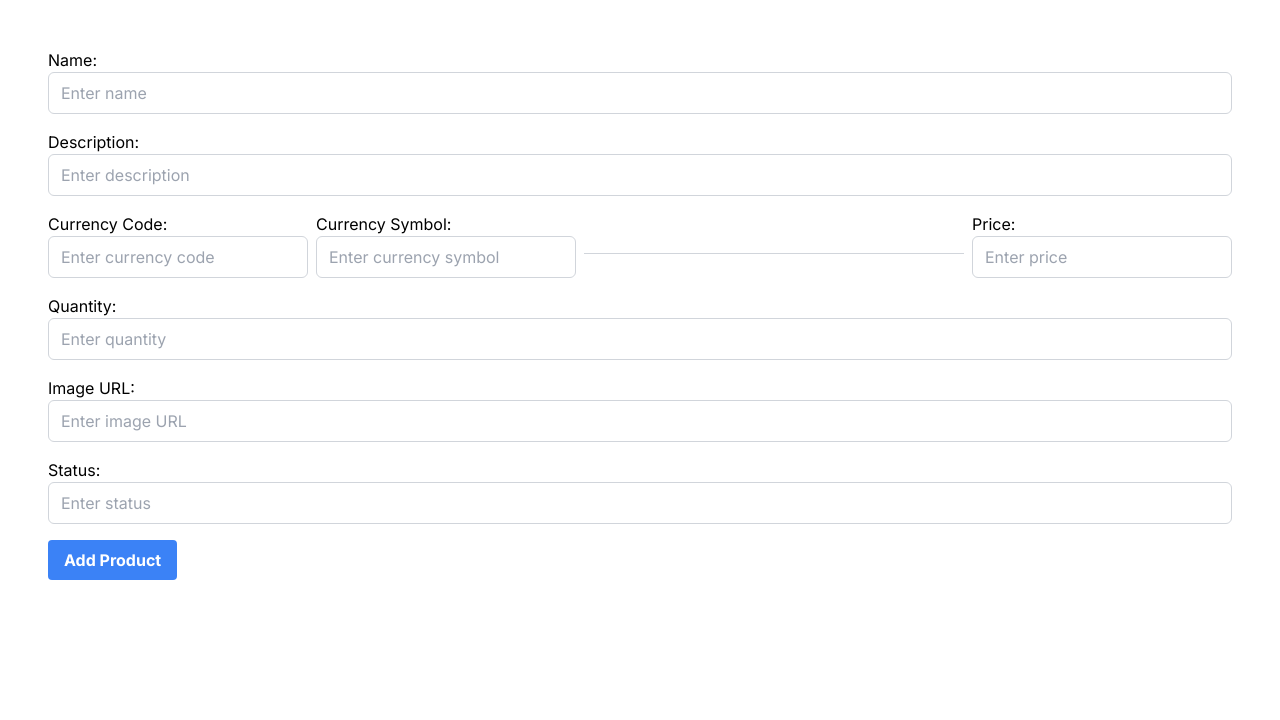
Test: AddProduct Component › displays error message if price is not positive
The image size is (1280, 720).
// Fill in the form fields
In the field labelled "Name:": (640, 93) left=48, top=72, right=1232, bottom=114, type "Test Product"
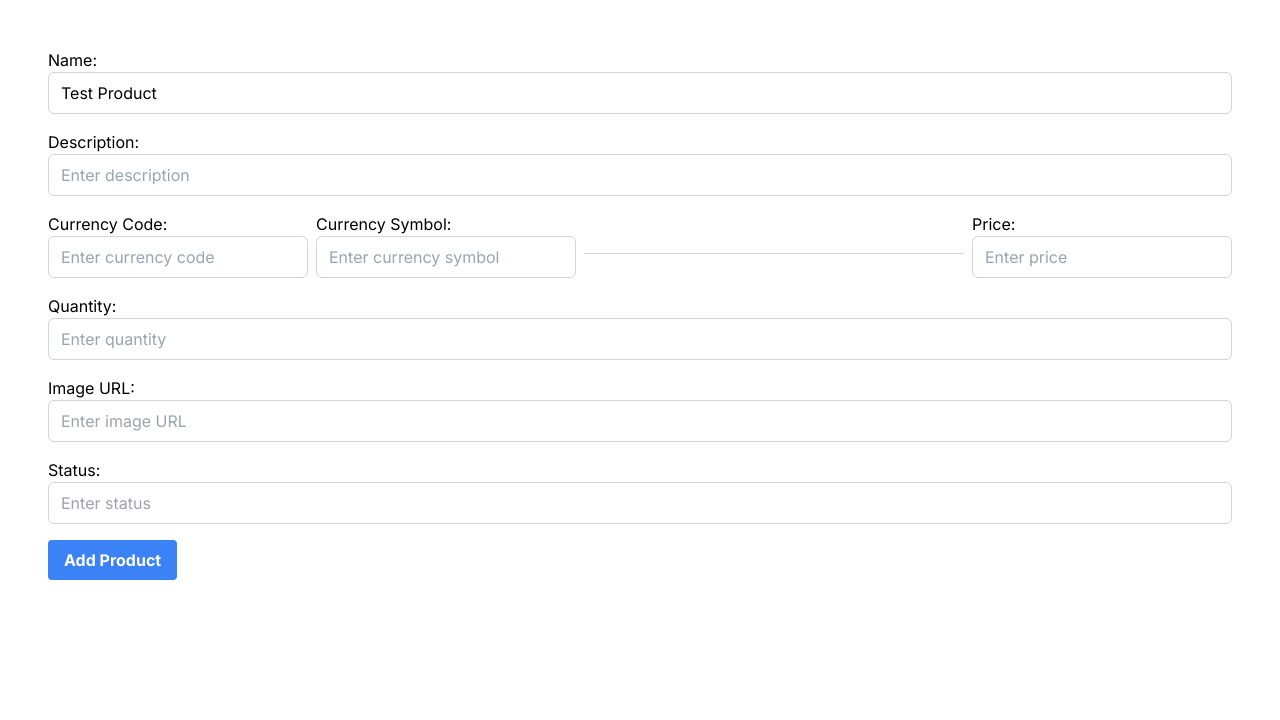
In the field labelled "Description:": (640, 175) left=48, top=154, right=1232, bottom=196, type "Test Description"
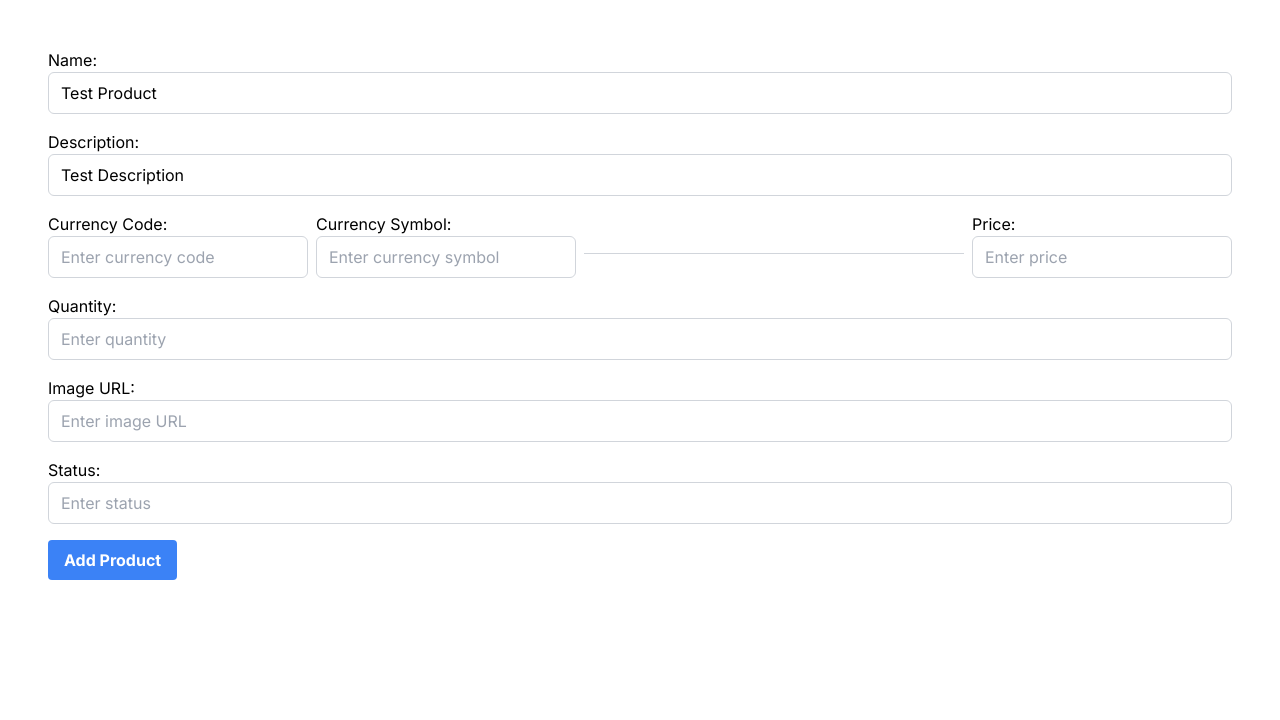
In the field labelled "Currency Code:": (178, 257) left=48, top=236, right=308, bottom=278, type "USD"
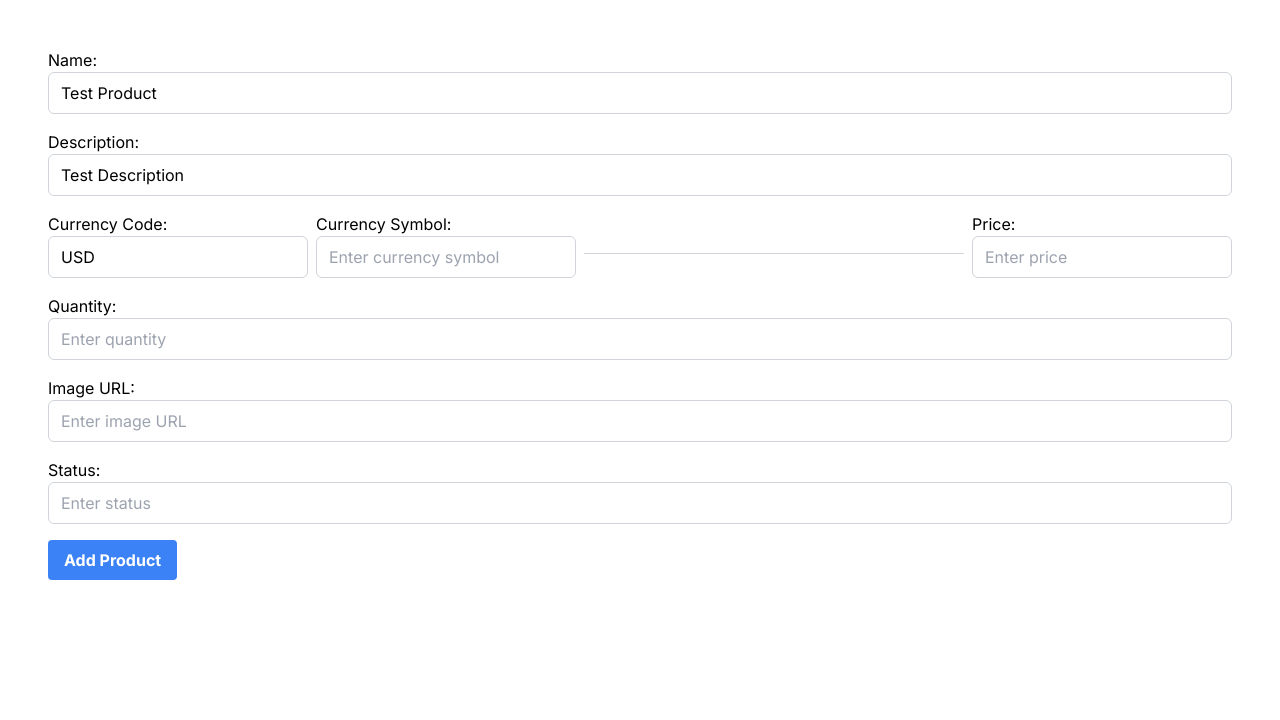
In the field labelled "Currency Symbol:": (446, 257) left=316, top=236, right=576, bottom=278, type "$"
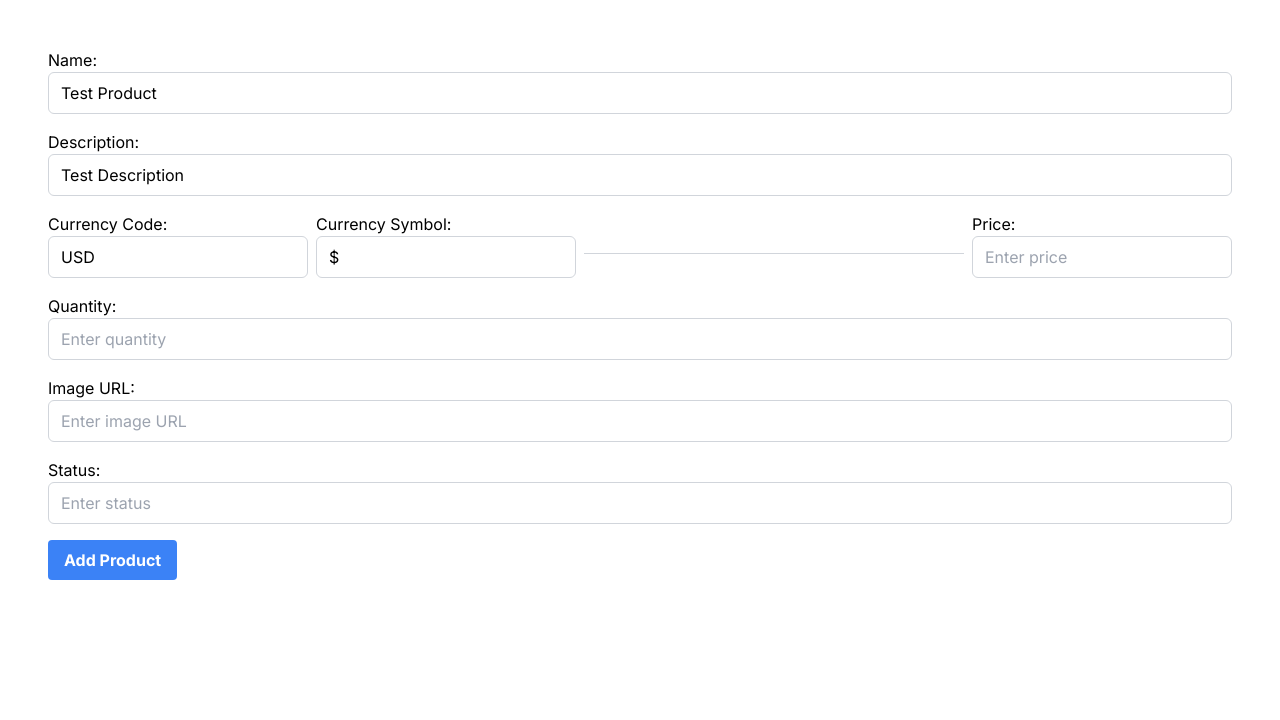
In the number field labelled "Price:": (1102, 257) left=972, top=236, right=1232, bottom=278, type "-10"
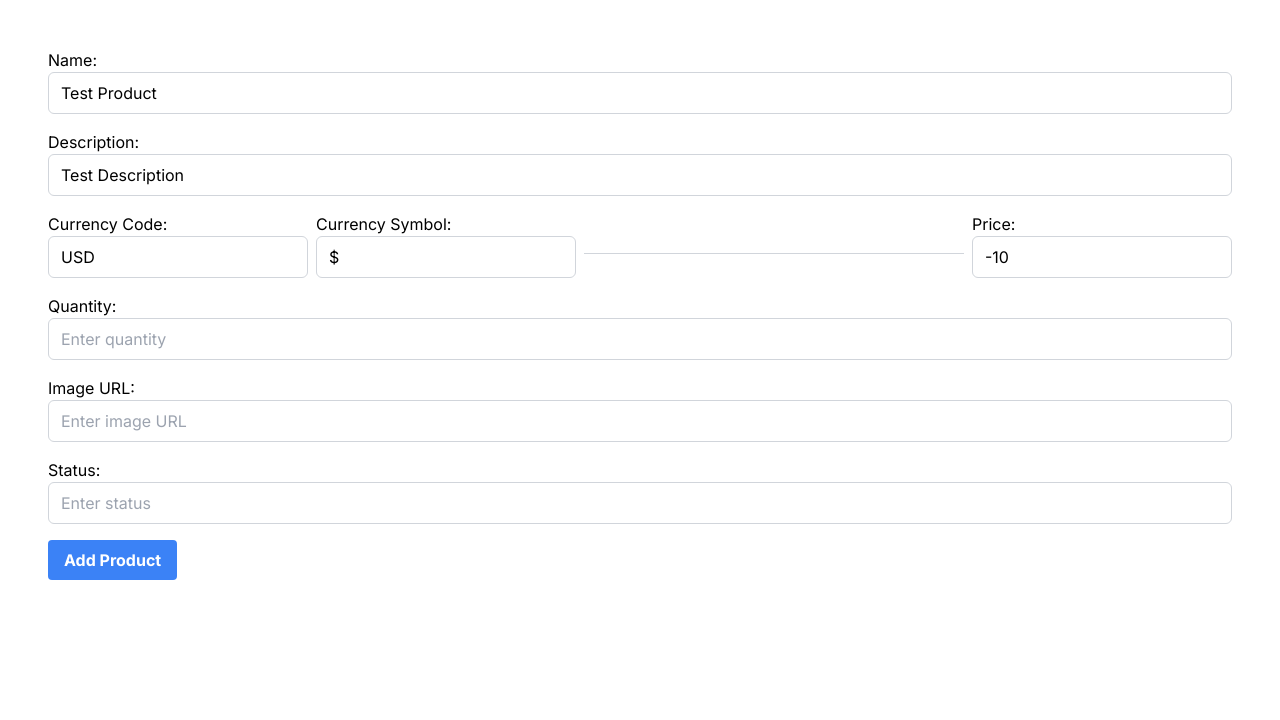
// Submit the form
Submit the form from the button labelled "Add Product", box left=48, top=540, right=177, bottom=580
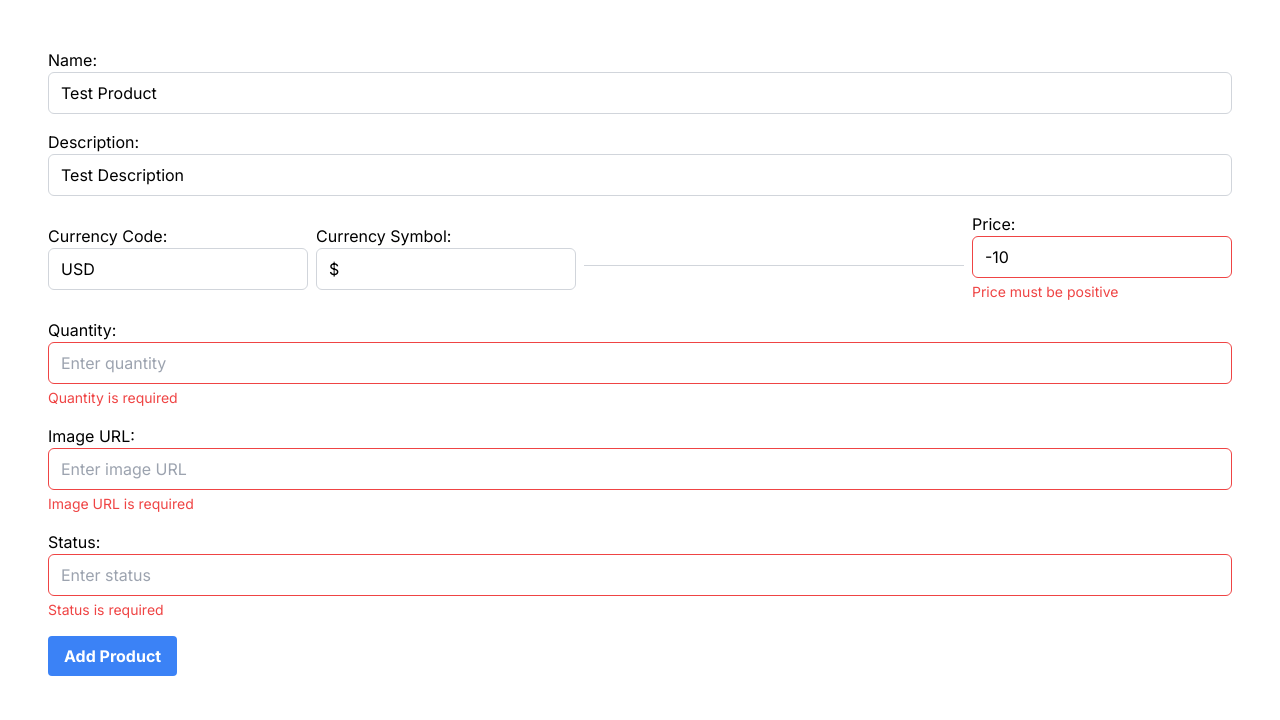
Now the text "Price must be positive" is shown, box left=972, top=283, right=1118, bottom=300
